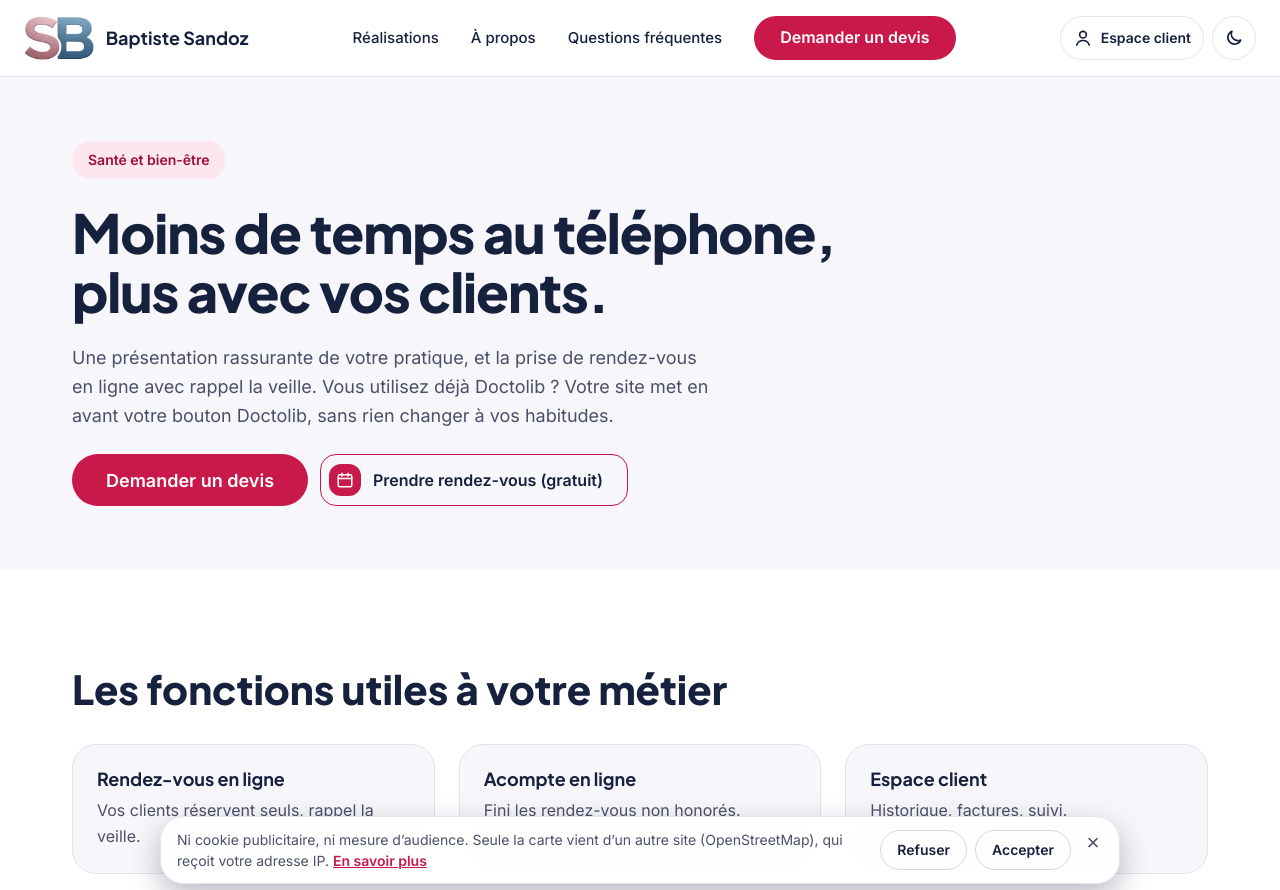
Scenario: Pages métier › mène à la demande de devis
Click the 2nd link "Demander un devis".
click(190, 480)  # box x1=72 y1=454 x2=308 y2=506
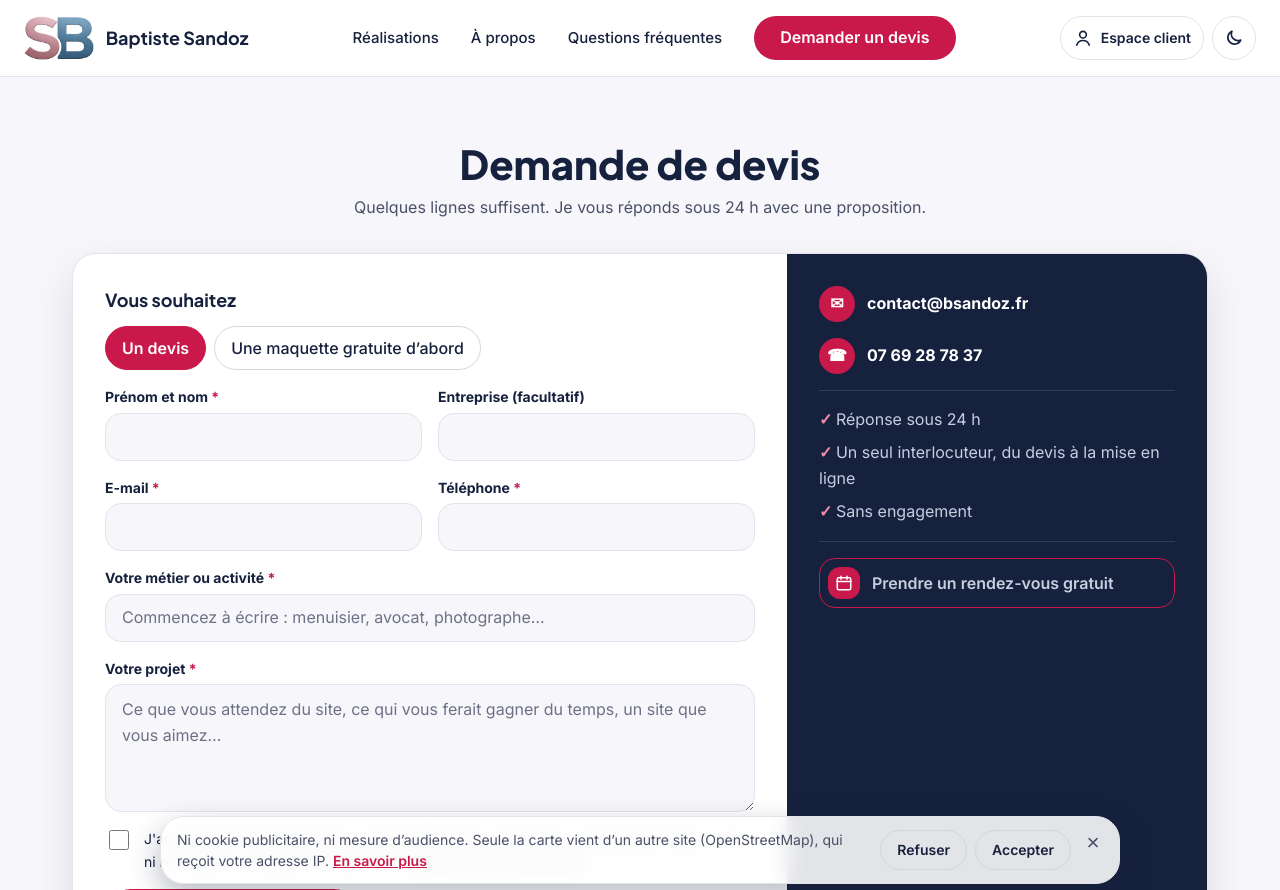
Check: the heading "Demande de devis" is shown, box x1=460 y1=141 x2=820 y2=187
